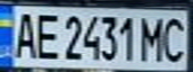1: (115, 12, 139, 62)
2: (60, 11, 84, 62)
3: (100, 12, 121, 62)
4: (78, 11, 103, 62)
A: (9, 8, 39, 60)
C: (160, 14, 190, 63)
E: (33, 9, 60, 61)
M: (139, 14, 169, 63)
